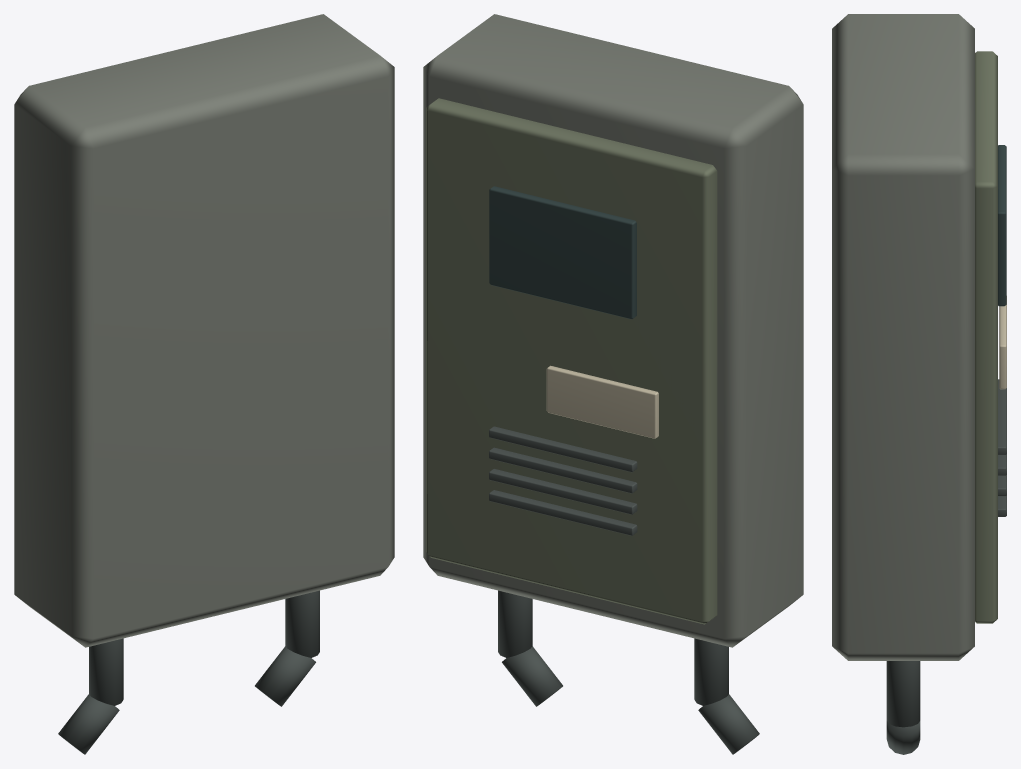
Rendered from JunctionBox02.fbx.
3 views of the same model, side by side, from view 1: azimuth 30°, elevation 25°; view 2: azimuth 150°, elevation 25°; view 3: azimuth 270°, elevation 25° (orthographic). The views are drawn at different scales.
Visible parts, largest first — view 1: JunctionBox02; view 2: JunctionBox02; view 3: JunctionBox02.
Part boxes in pixels (x1,y1,x2,y2): JunctionBox02: [14, 14, 394, 754]; JunctionBox02: [423, 14, 803, 754]; JunctionBox02: [832, 14, 1006, 754].
Size of the model in its own units: 56 by 108 by 26.9.
